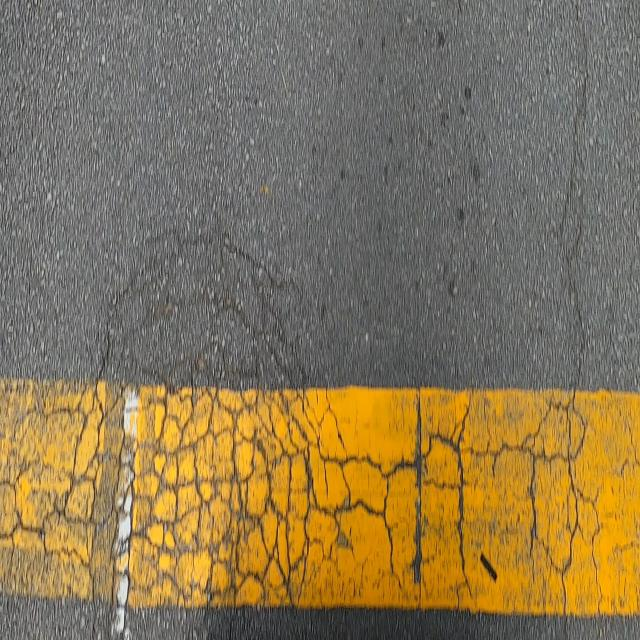Retak-Buaya: (1, 385, 639, 638), (31, 223, 356, 623)
Retak-Memanjang: (551, 1, 596, 384)
